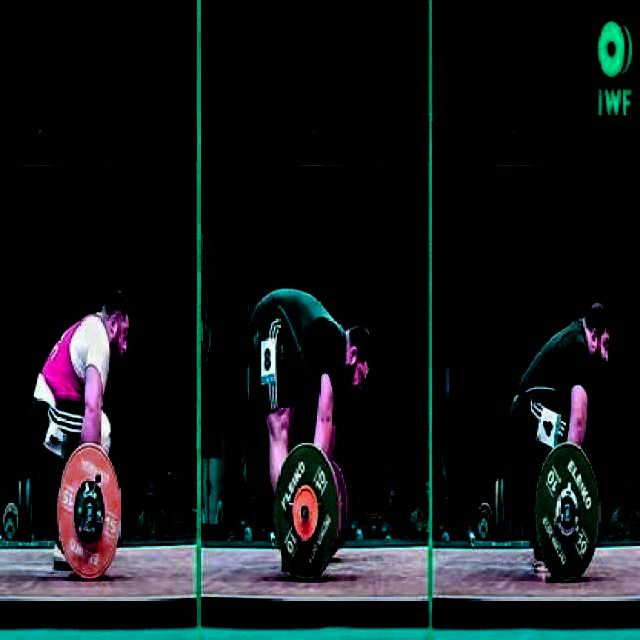barbell: (46, 435, 130, 589), (266, 437, 350, 590), (529, 437, 604, 585)
